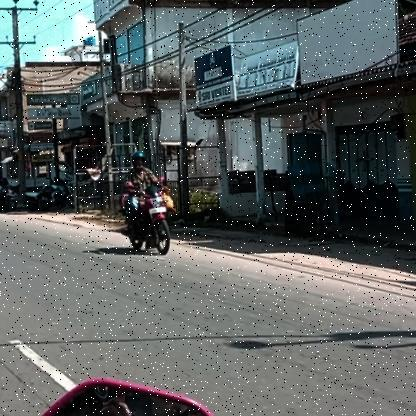motorcycle: (119, 186, 173, 258)
